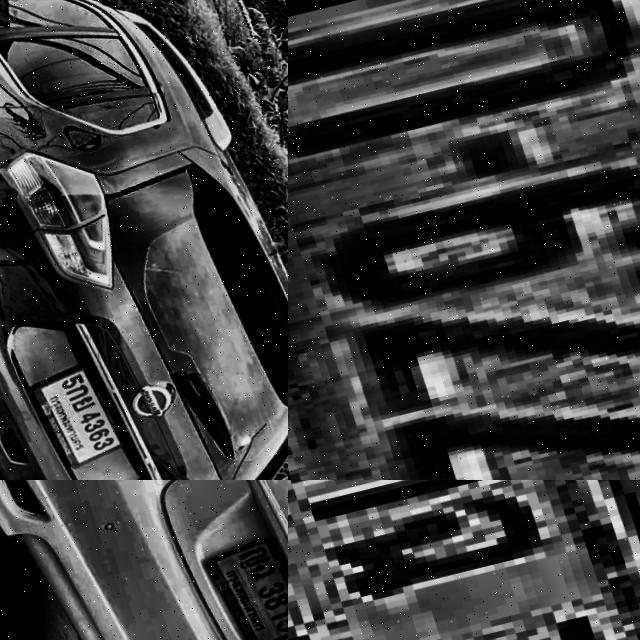license-plate: (288, 0, 640, 480), (288, 480, 640, 640), (12, 357, 125, 471), (180, 526, 288, 640)
